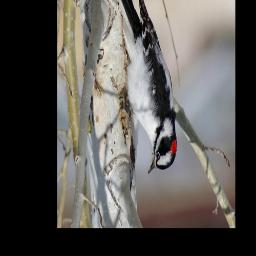Woodpecker: (114, 0, 176, 176)
